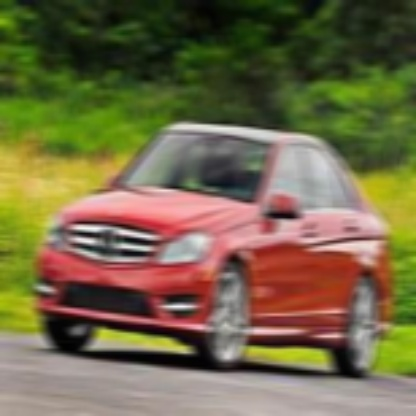Vehicle: (33, 120, 395, 378)
